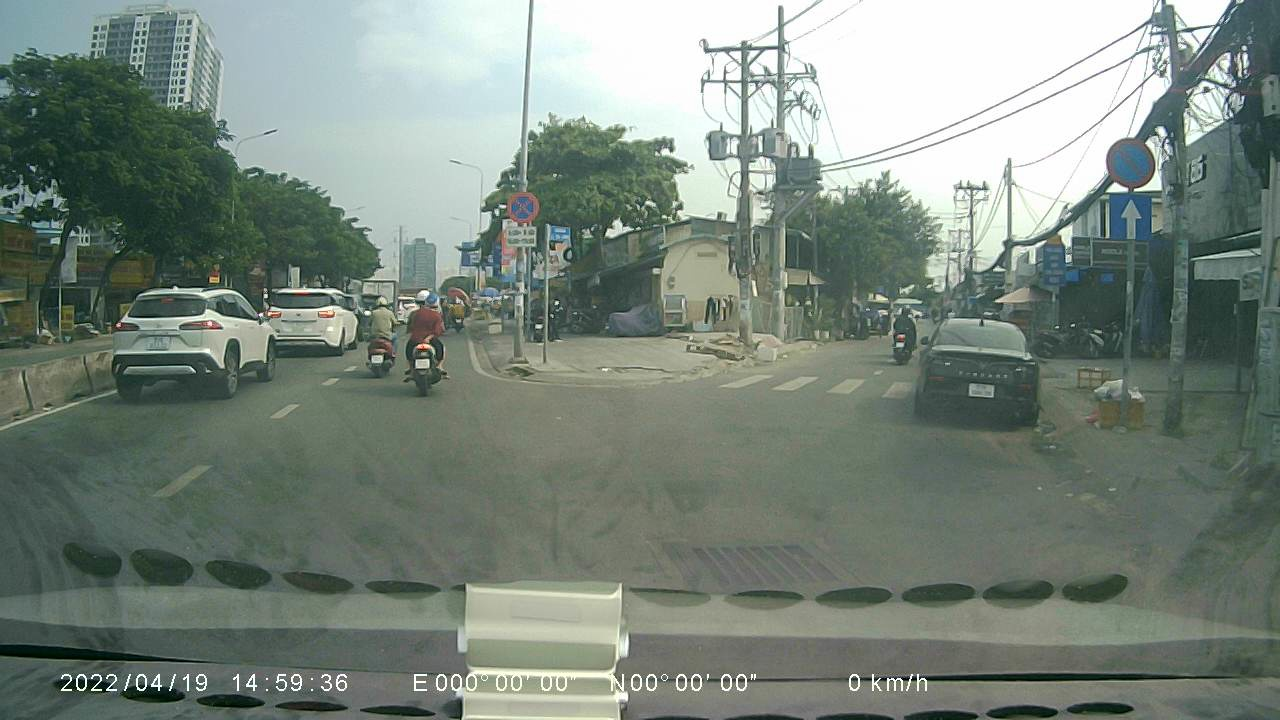Bien khac: (1102, 188, 1162, 245)
Cam do xe: (1106, 136, 1153, 190)
